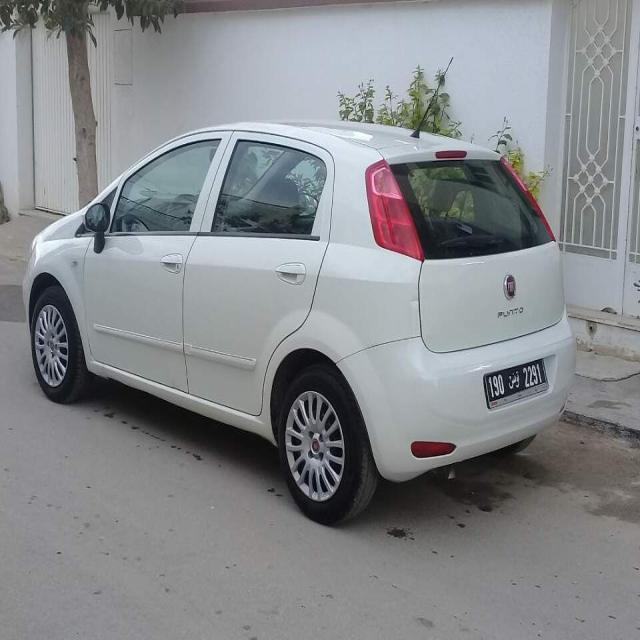LP: (483, 356, 548, 398)
